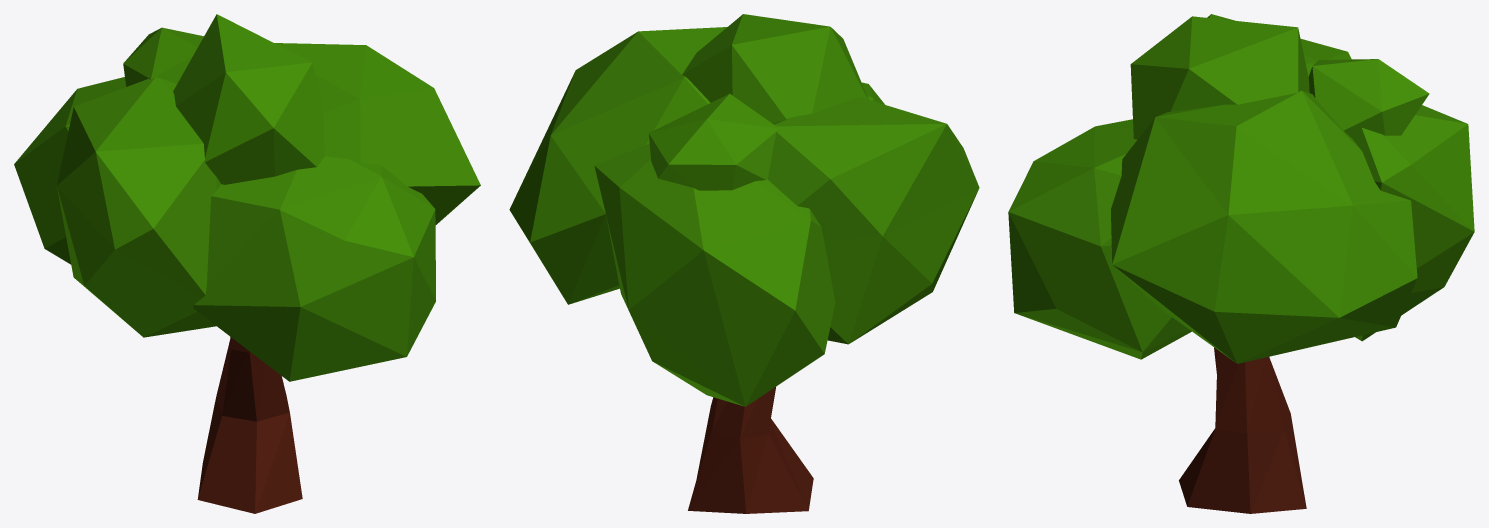
Rendered from M_Giant_Tree.FBX.
3 views of the same model, side by side, from view 1: azimuth 30°, elevation 25°; view 2: azimuth 150°, elevation 25°; view 3: azimuth 270°, elevation 25° (orthographic). The views are drawn at different scales.
Visible parts, largest first — view 1: GeoSphere047, GeoSphere041, GeoSphere044, GeoSphere042, Cylinder011, GeoSphere043, GeoSphere045; view 2: GeoSphere043, GeoSphere041, GeoSphere042, GeoSphere044, Cylinder011, GeoSphere045; view 3: GeoSphere042, GeoSphere047, GeoSphere044, Cylinder011, GeoSphere043, GeoSphere045, GeoSphere041.
Boxes of the visible parts, x1=… form: GeoSphere047: x1=193, y1=156, x2=435, y2=381; GeoSphere041: x1=57, y1=77, x2=221, y2=337; GeoSphere044: x1=173, y1=14, x2=324, y2=184; GeoSphere042: x1=274, y1=43, x2=480, y2=224; Cylinder011: x1=197, y1=337, x2=302, y2=513; GeoSphere043: x1=14, y1=77, x2=126, y2=264; GeoSphere045: x1=123, y1=27, x2=203, y2=86; GeoSphere043: x1=594, y1=143, x2=835, y2=406; GeoSphere041: x1=767, y1=97, x2=979, y2=344; GeoSphere042: x1=509, y1=27, x2=726, y2=304; GeoSphere044: x1=682, y1=14, x2=868, y2=122; Cylinder011: x1=688, y1=387, x2=813, y2=513; GeoSphere045: x1=648, y1=93, x2=779, y2=190; GeoSphere042: x1=1111, y1=90, x2=1417, y2=363; GeoSphere047: x1=1008, y1=119, x2=1191, y2=359; GeoSphere044: x1=1130, y1=16, x2=1309, y2=139; Cylinder011: x1=1179, y1=347, x2=1306, y2=513; GeoSphere043: x1=1353, y1=105, x2=1474, y2=341; GeoSphere045: x1=1308, y1=59, x2=1429, y2=138; GeoSphere041: x1=1207, y1=14, x2=1351, y2=76.
Bounding box in the file's own units: 547 × 642 × 583.
